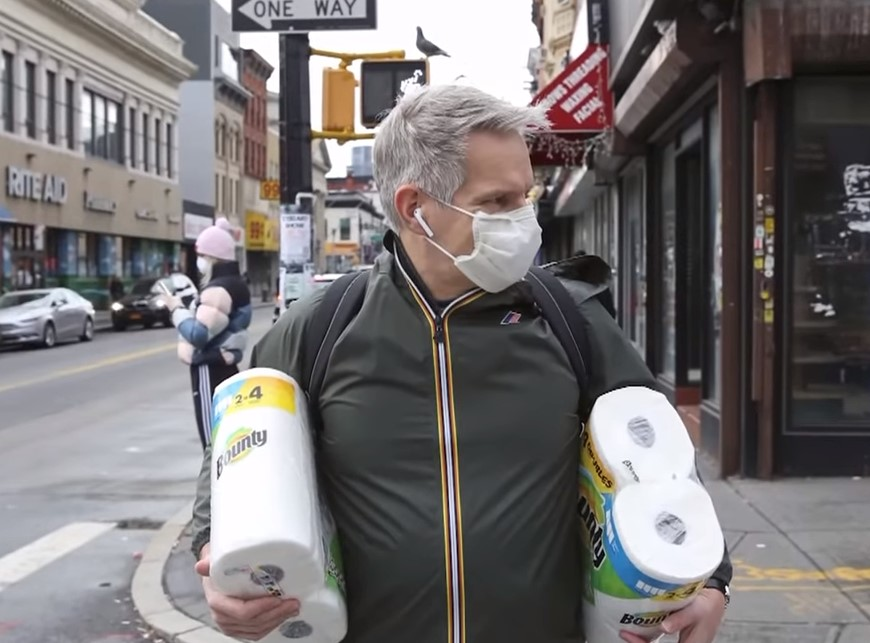face_with_mask: (393, 93, 536, 295), (196, 226, 235, 276)
